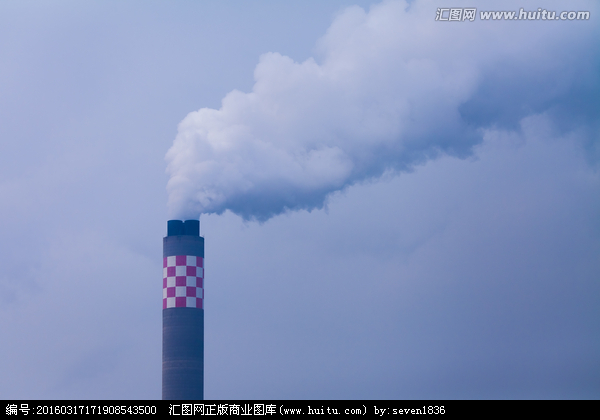dust: (160, 4, 579, 235)
